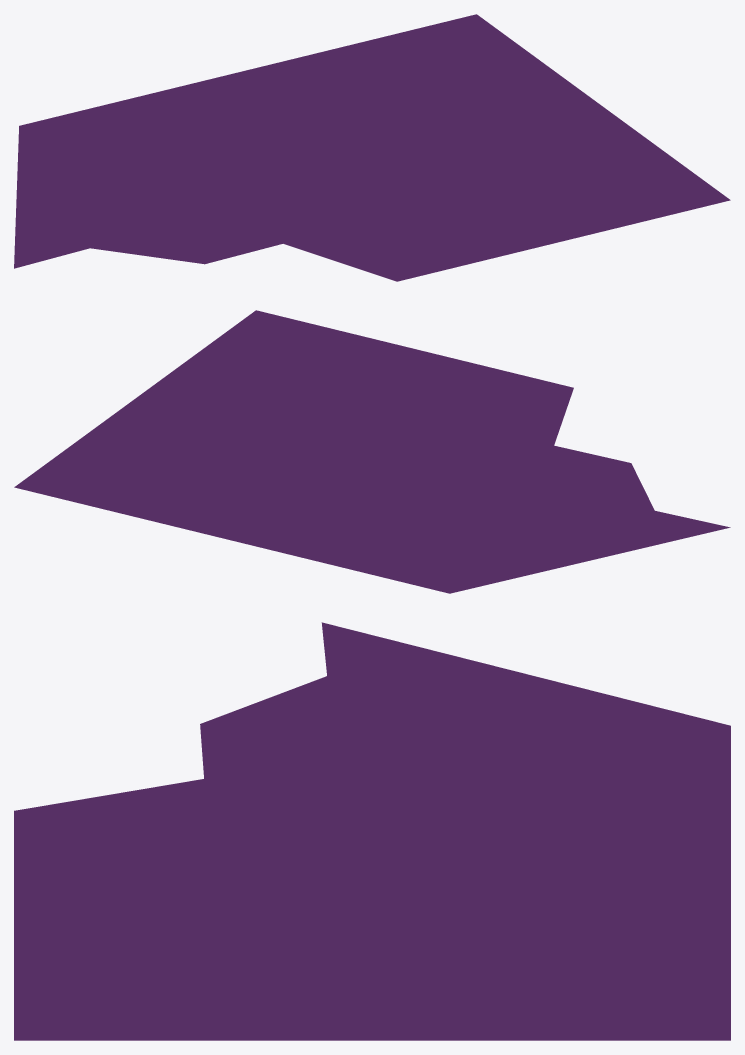
Rendered from int-floor5.glb.
3 renders of one model, top to bottom at view 1: azimuth 30°, elevation 25°; view 2: azimuth 150°, elevation 25°; view 3: azimuth 270°, elevation 25°, orthographic. The views are drawn at different scales.
Parts seen in each view (by area): view 1: int-floor; view 2: int-floor; view 3: int-floor.
Boxes of the visible parts, box(x1,y1,x2,y2) form: int-floor: box(14, 14, 730, 281); int-floor: box(14, 310, 730, 593); int-floor: box(14, 622, 730, 1040).
Bounding box in the file's own units: 1.54 × 0 × 1.12.
